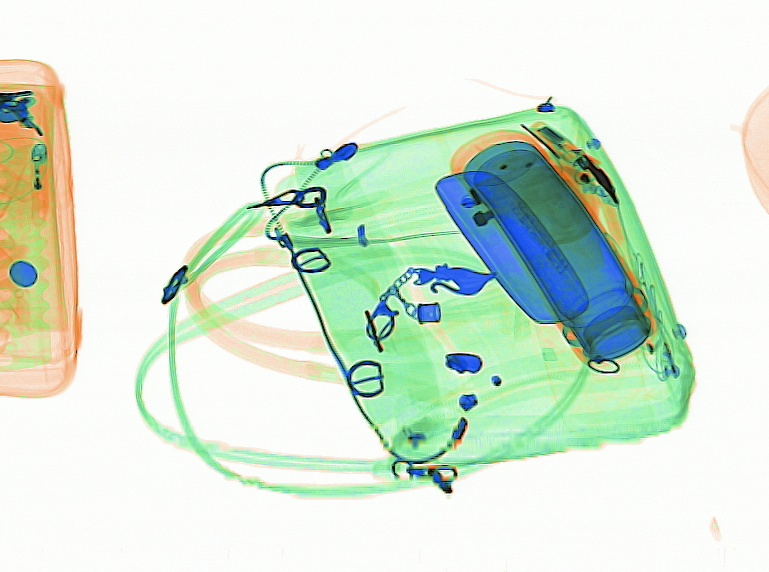lighter: (28, 141, 51, 227)
